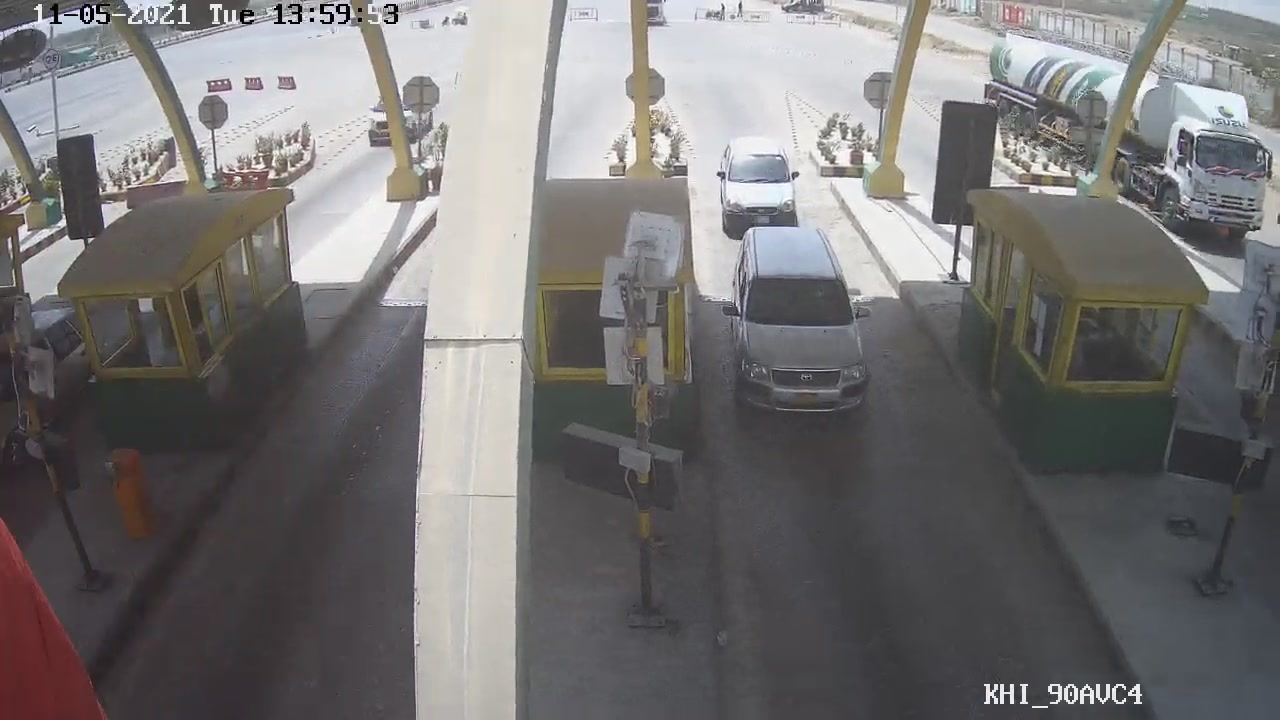F1: (716, 219, 892, 426)
